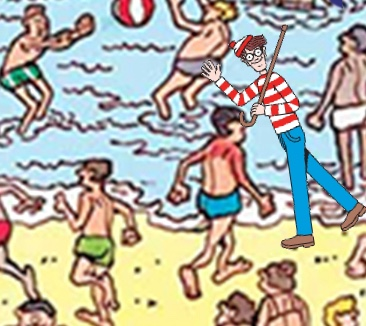Waldo: (201, 34, 366, 251)
